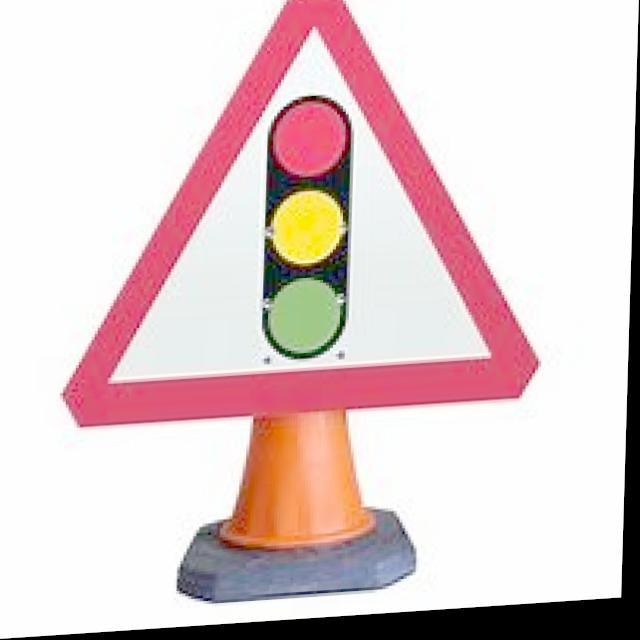TRAFFIC_SIGNAL: (64, 0, 559, 445)
